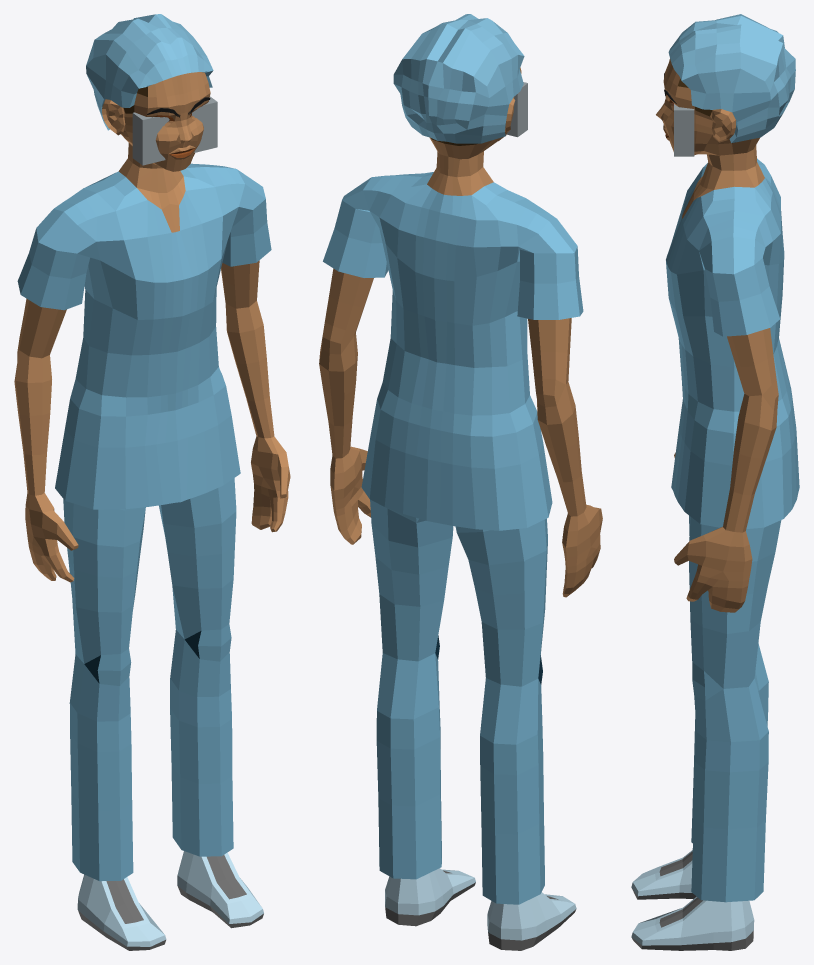
Rendered from Doctor_Stand_Mask.fbx.
3 views of the same model, side by side, from view 1: azimuth 30°, elevation 25°; view 2: azimuth 150°, elevation 25°; view 3: azimuth 270°, elevation 25° (orthographic). The views are drawn at different scales.
Parts seen in each view (by area): view 1: Doctor_Stand_Mask; view 2: Doctor_Stand_Mask; view 3: Doctor_Stand_Mask.
Boxes of the visible parts, x1,y1,x2,y2 form: Doctor_Stand_Mask: [14, 14, 290, 950]; Doctor_Stand_Mask: [319, 14, 602, 950]; Doctor_Stand_Mask: [631, 14, 799, 950].
Size of the model in its own units: 0.3141 by 1.07 by 0.1819.
